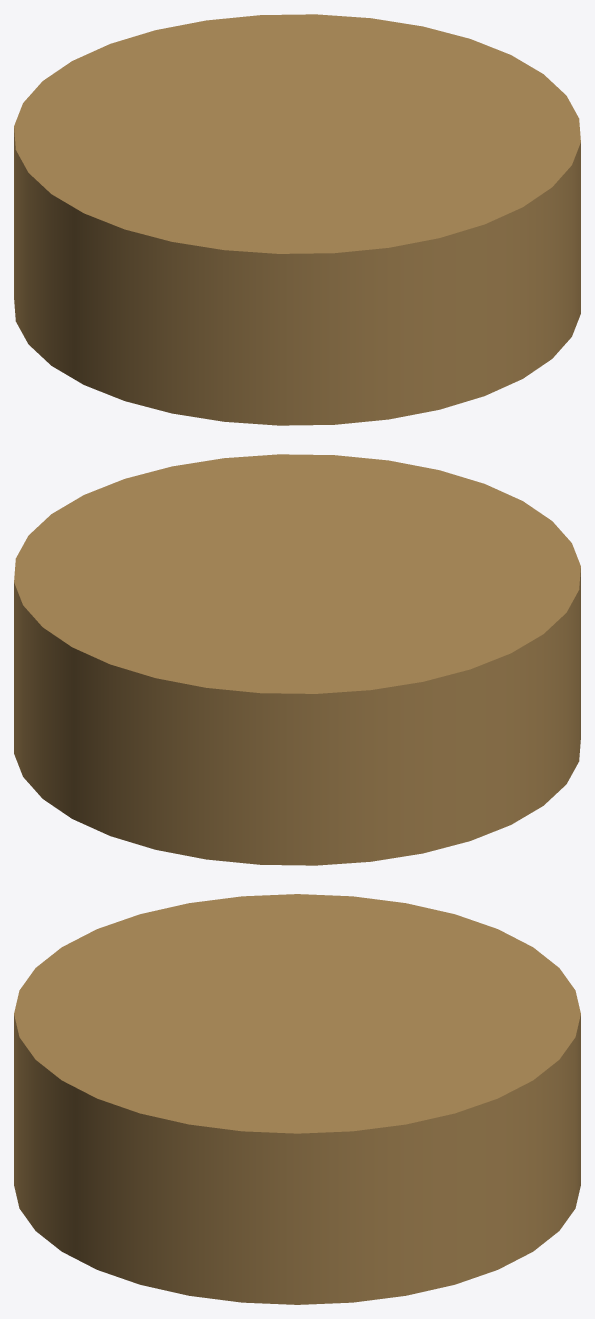
The model's file is impeller.glb.
3 renders of one model, top to bottom at view 1: azimuth 30°, elevation 25°; view 2: azimuth 150°, elevation 25°; view 3: azimuth 270°, elevation 25°, orthographic.
Parts seen in each view (by area): view 1: impeller; view 2: impeller; view 3: impeller.
Part boxes in pixels (<box>): impeller: <box>14,14,580,425</box>; impeller: <box>14,454,580,865</box>; impeller: <box>14,894,580,1304</box>.
Size of the model in its own units: 0.09 by 0.03 by 0.09.
